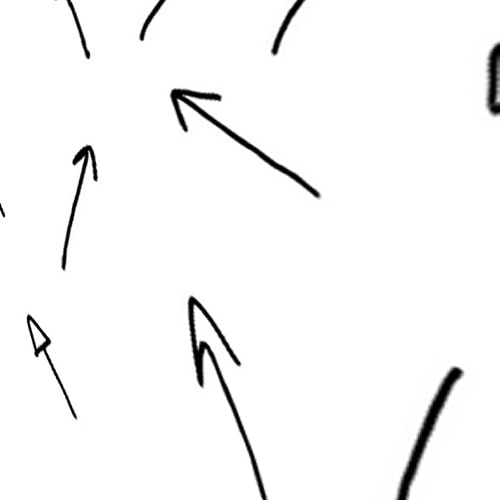arrow: (181, 295, 269, 498), (170, 83, 321, 201), (23, 313, 79, 420), (64, 141, 98, 270)
arrownohead: (393, 365, 464, 497), (265, 1, 302, 51), (61, 1, 92, 55), (136, 1, 167, 39)
